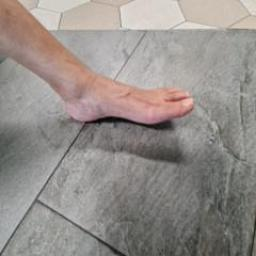Medial View -Left Foot-: (38, 50, 214, 147)
